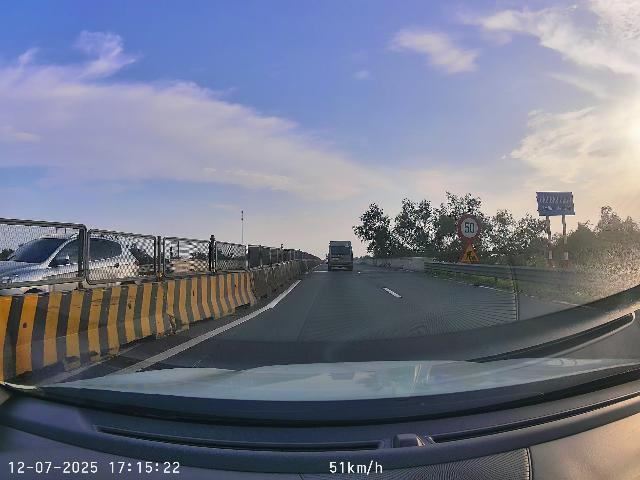127-toc-do-toi-da-50: (458, 214, 481, 241)
227-cong-truong: (459, 243, 480, 263)
